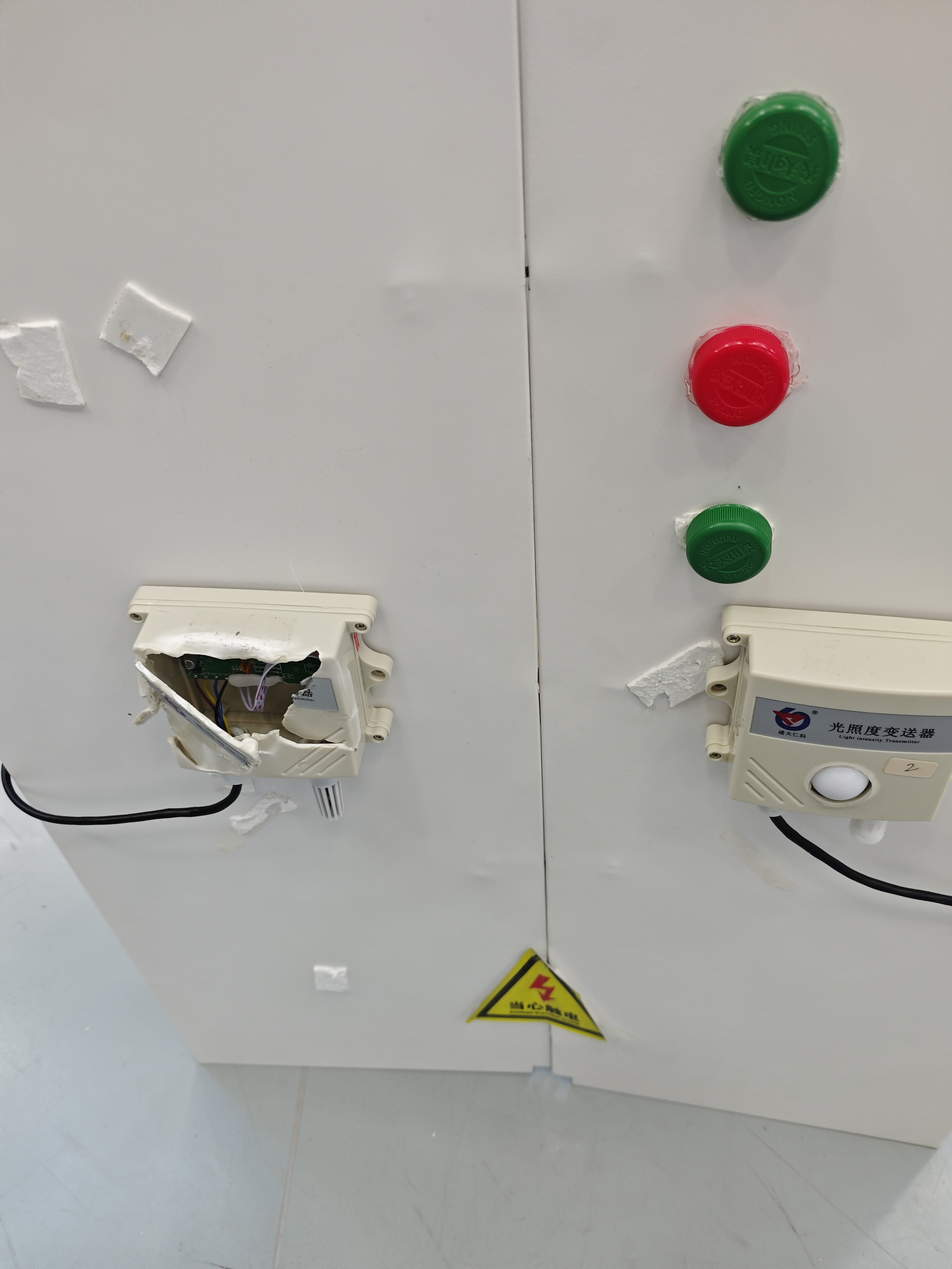red_warning: (667, 292, 837, 423)
sensor_damage: (106, 547, 459, 850)
